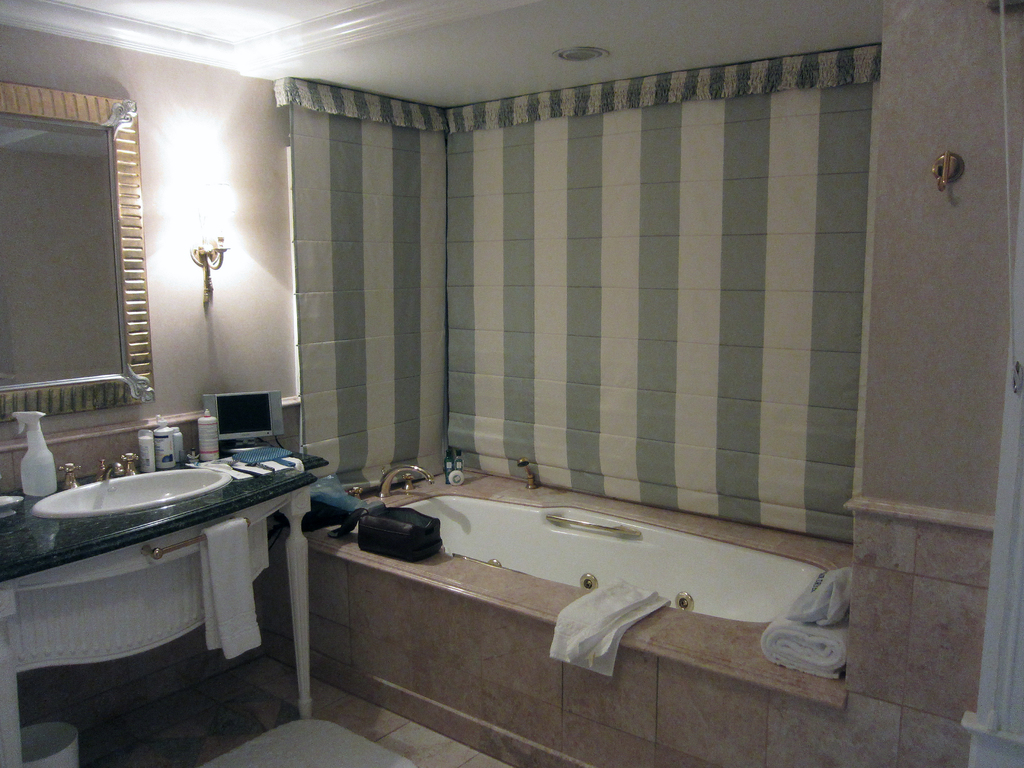tap: (375, 460, 439, 502), (510, 452, 543, 490), (96, 457, 123, 481)
